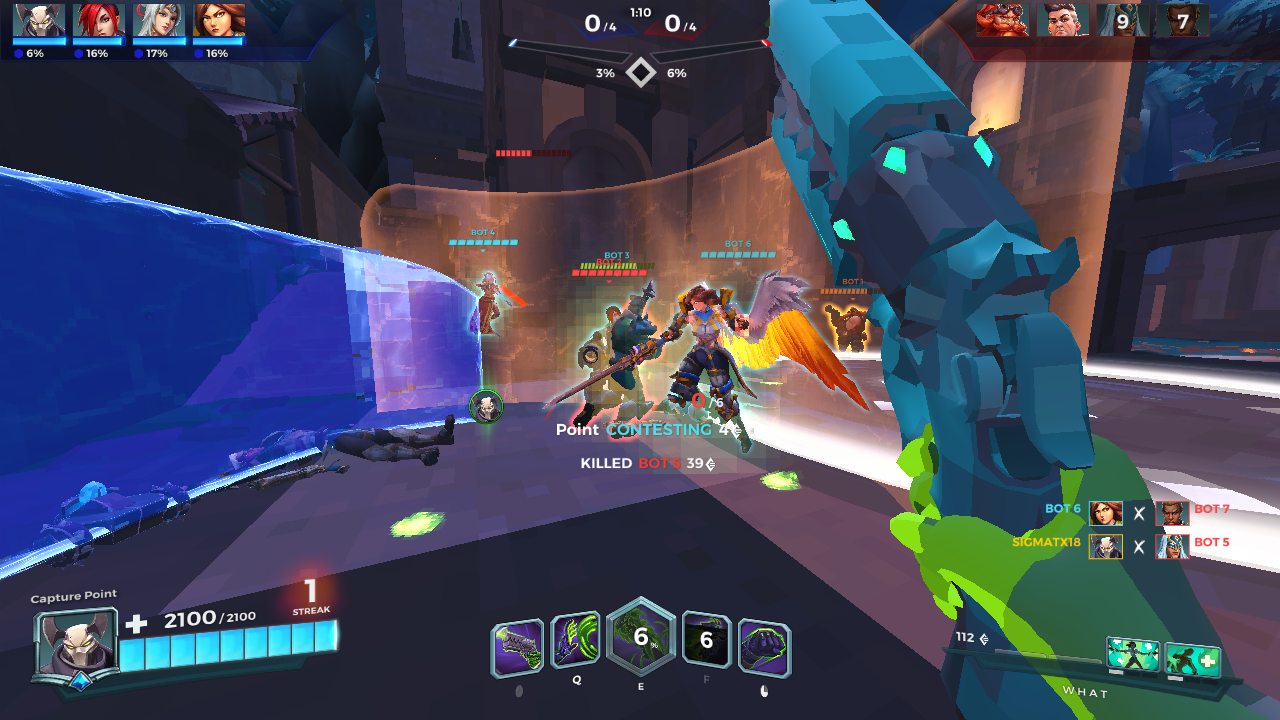model: (575, 298, 653, 451), (830, 301, 872, 358)
